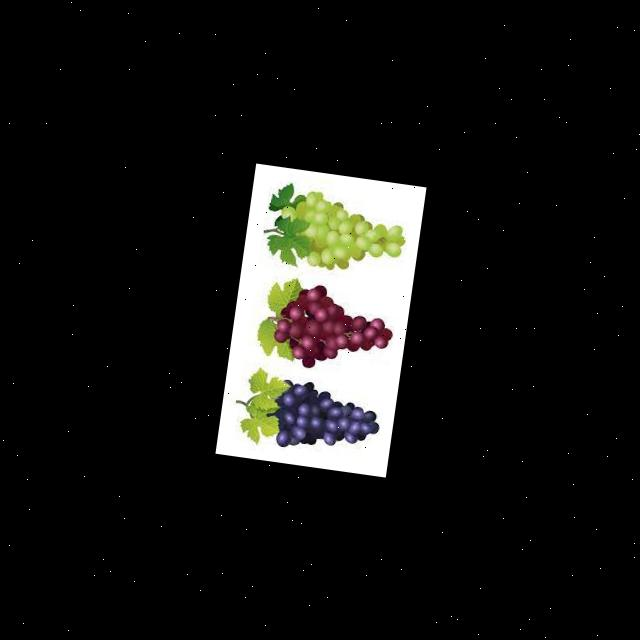grape: (268, 280, 396, 379), (262, 376, 383, 461)
